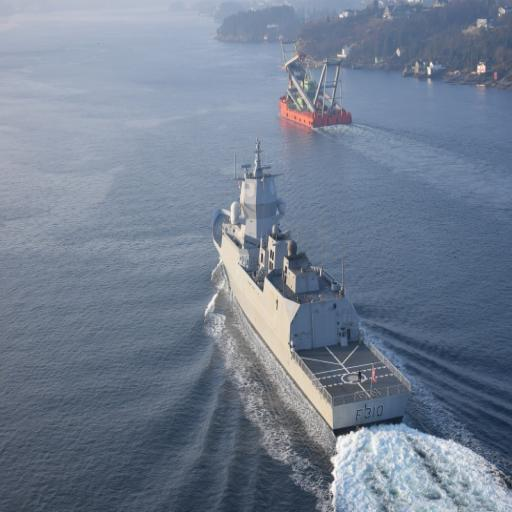Fragata: (211, 126, 416, 435)
